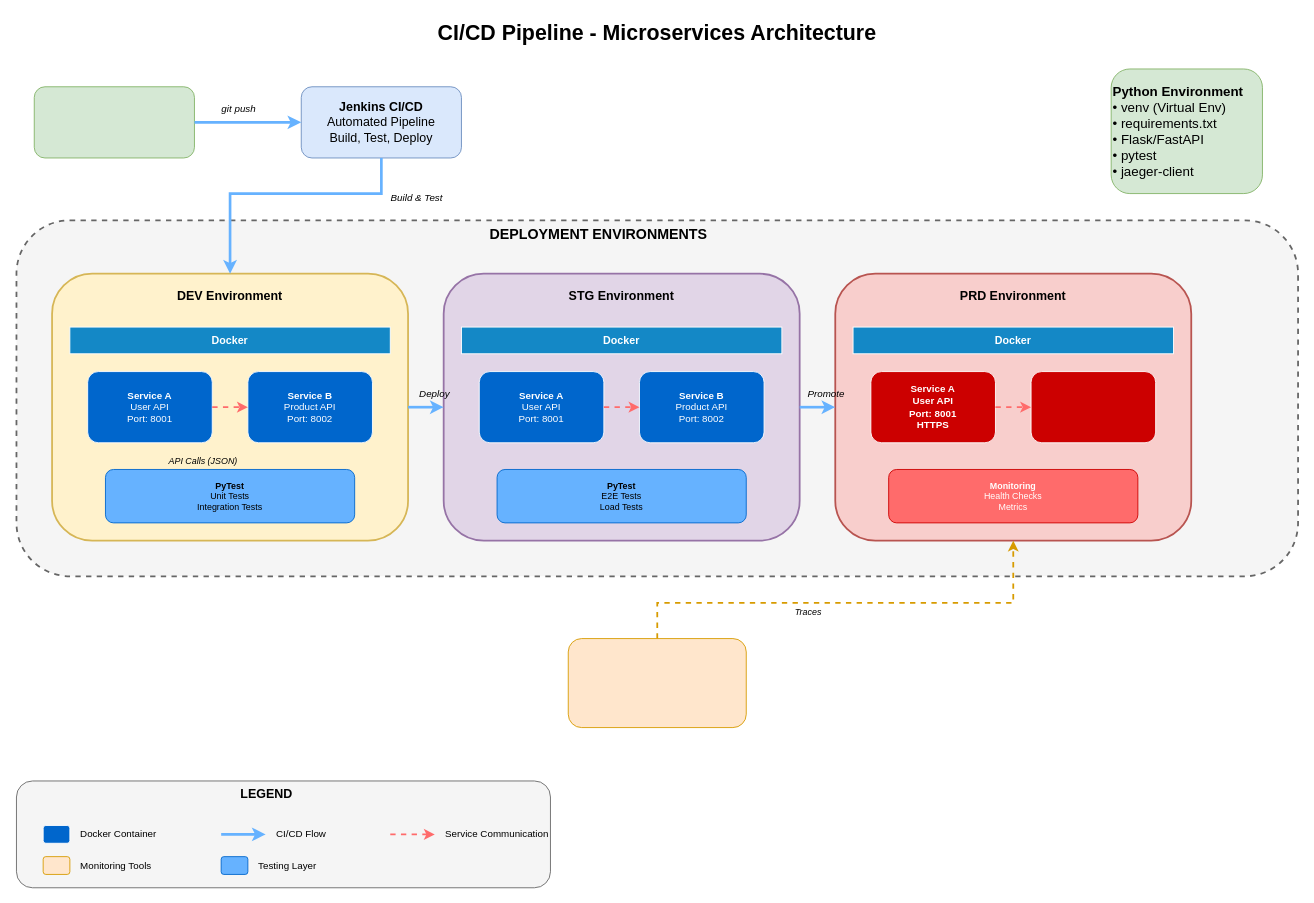
Image size: 1314x903. Some labels were removed from this diagram. Each missing label, with the centre of its shape:
"GitHub Repository Source Code Version Control" belongs at point 113,122.
"Jaeger Tracing Distributed Tracing Error Tracking Performance Monitoring" belongs at point 656,683.
"Service B Product API Port: 8002 HTTPS" belongs at point 1093,407.
